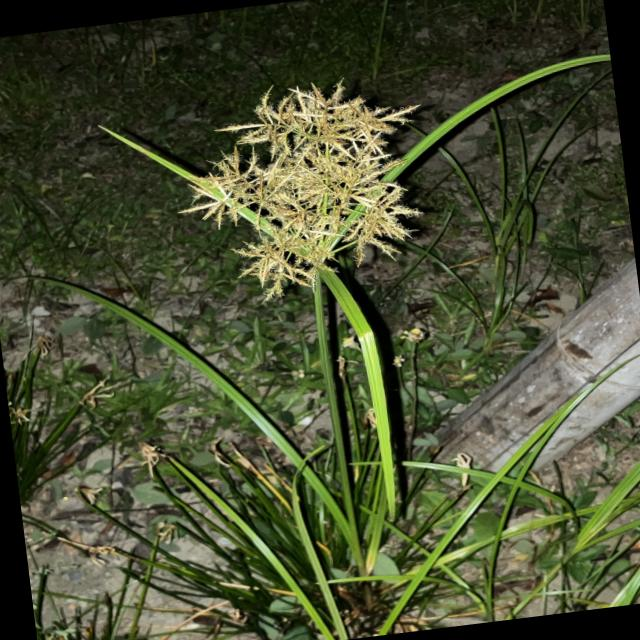cyperus: (154, 61, 448, 318), (382, 320, 428, 372), (69, 373, 118, 415), (128, 430, 172, 472), (332, 329, 358, 374), (10, 398, 40, 429)
